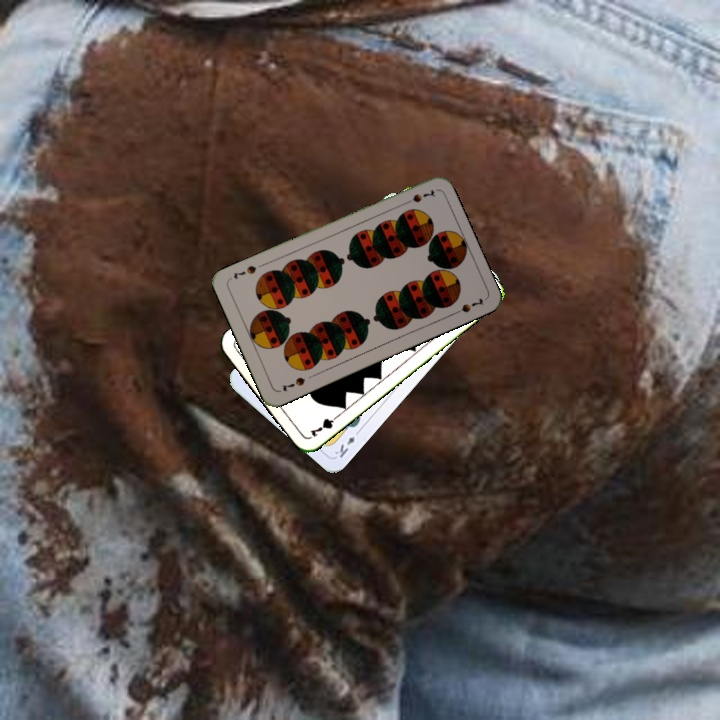EK: (330, 425, 363, 460)
G7: (306, 410, 343, 440)
S7: (398, 186, 438, 208), (277, 373, 308, 394)
